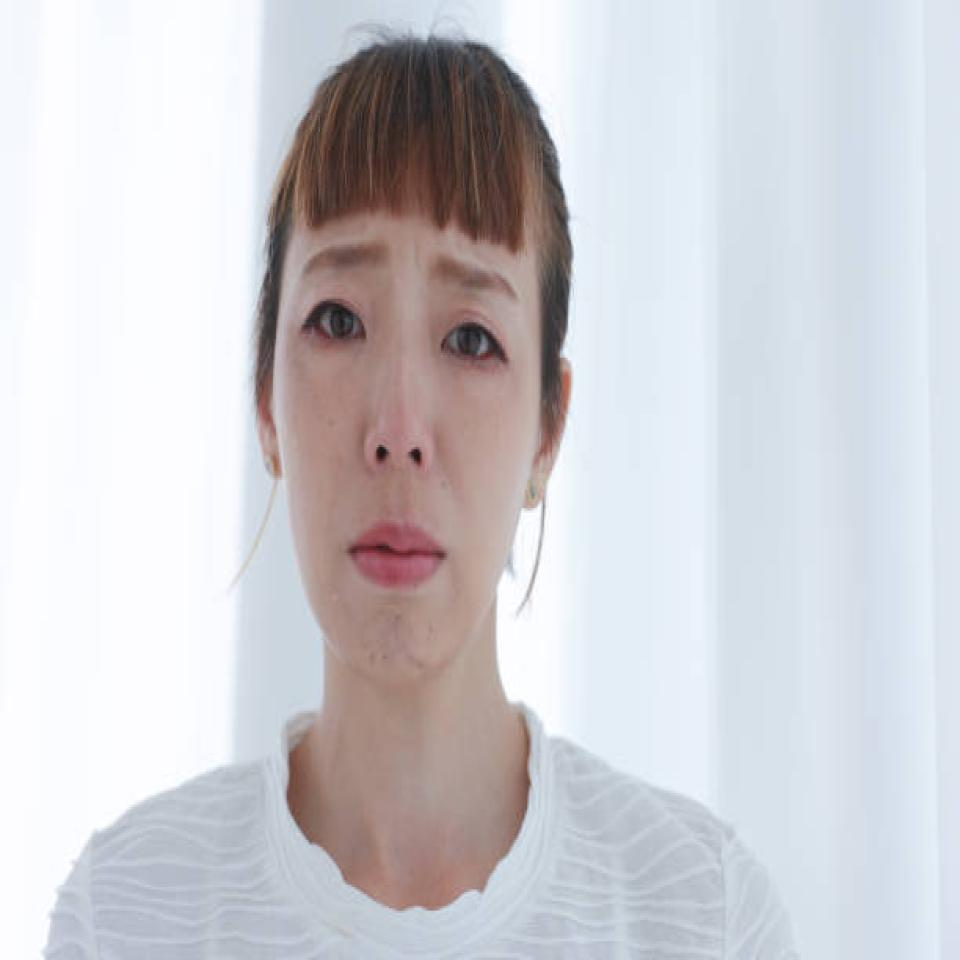Sadness: (290, 174, 503, 645)
